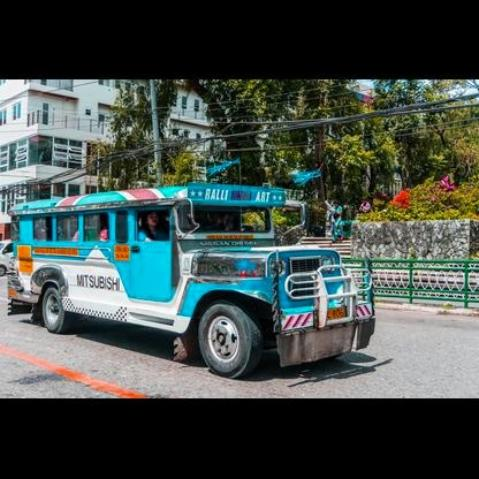jeepney: (5, 176, 389, 394)
